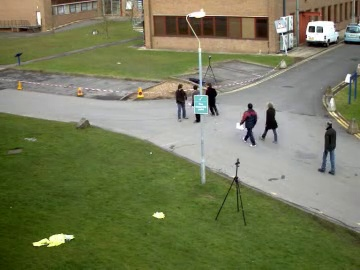person: (175, 81, 194, 119), (174, 83, 193, 120), (174, 82, 192, 120)
